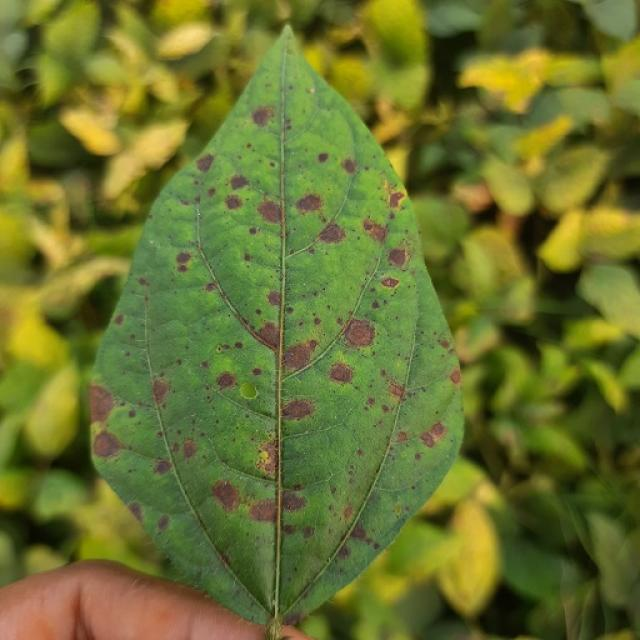Anthracnose: (339, 311, 385, 356), (283, 340, 319, 373), (88, 383, 116, 421), (343, 318, 376, 348), (92, 429, 123, 460), (417, 420, 448, 450), (211, 479, 240, 511), (254, 440, 279, 476), (362, 216, 389, 244), (281, 399, 314, 421), (317, 222, 346, 245), (248, 499, 277, 522), (256, 199, 282, 224), (295, 193, 323, 215), (328, 362, 354, 384), (256, 323, 279, 347), (281, 491, 306, 512), (152, 378, 170, 407), (386, 247, 408, 268), (251, 106, 273, 127), (215, 371, 236, 391), (175, 251, 194, 273), (125, 501, 143, 523), (196, 153, 214, 174), (152, 458, 172, 476), (228, 175, 249, 192), (349, 522, 367, 541), (388, 190, 405, 209), (182, 439, 197, 459), (341, 158, 357, 175), (388, 382, 404, 399), (420, 431, 436, 448), (380, 276, 400, 289), (267, 290, 282, 306), (336, 544, 351, 559), (156, 514, 170, 530), (450, 369, 462, 385), (395, 430, 408, 444), (302, 526, 315, 539), (113, 313, 125, 326), (317, 152, 329, 163), (220, 553, 230, 566), (138, 277, 150, 287), (205, 282, 216, 292), (251, 367, 262, 377), (394, 503, 403, 515), (177, 264, 188, 273), (249, 226, 260, 235), (128, 408, 137, 418), (371, 300, 380, 309), (234, 341, 243, 349), (414, 452, 422, 461), (313, 317, 321, 325), (244, 253, 251, 262), (216, 345, 223, 353), (175, 358, 182, 365), (269, 162, 276, 168), (246, 143, 252, 149)
Blackgram: (91, 28, 462, 621)
